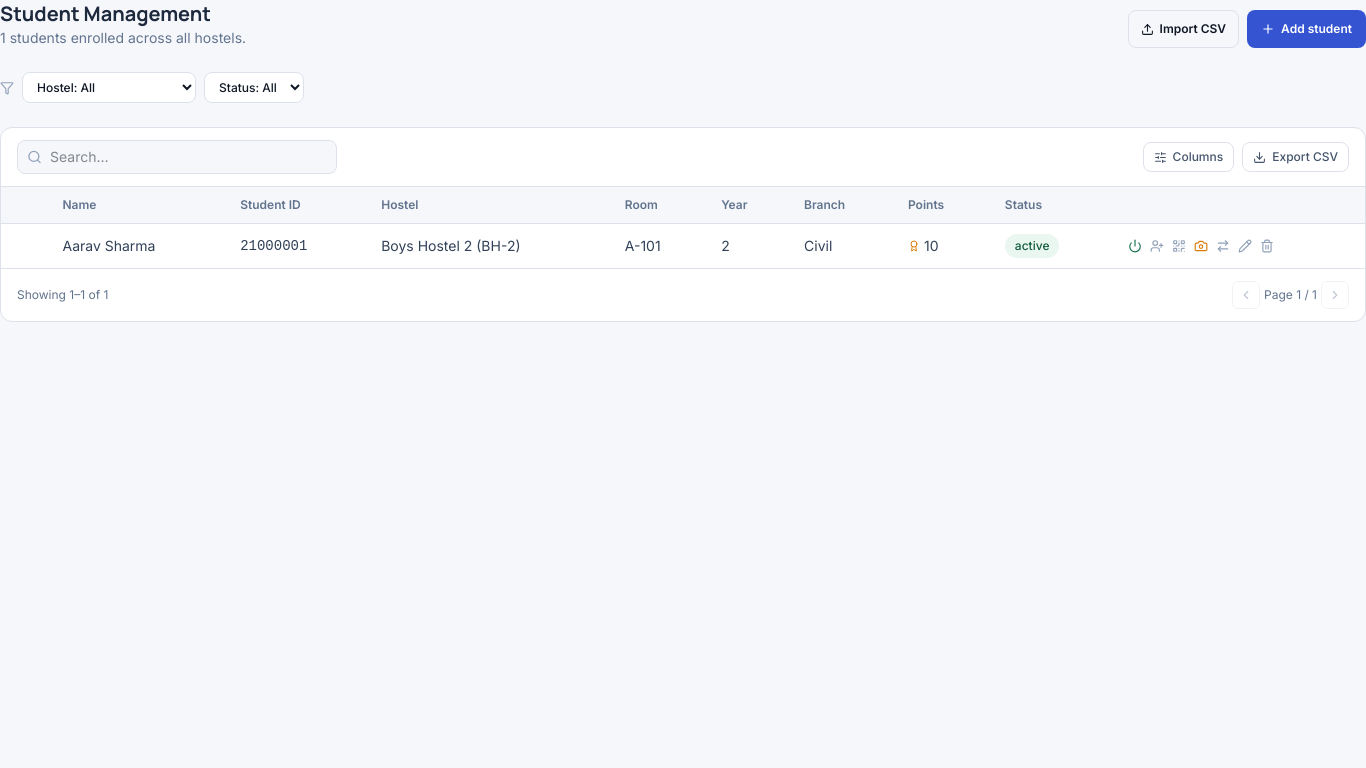
Test case: Students — hostel-capacity errors reach the person › a Super Admin's transfer into a full hostel surfaces the reason on the page
The width and height of the screenshot is (1366, 768).
Expected: the text "Aarav Sharma" is shown, left=46, top=224, right=224, bottom=268
Click the button titled "transfer to another hostel" at coordinates (1223, 246), box left=1216, top=239, right=1230, bottom=253
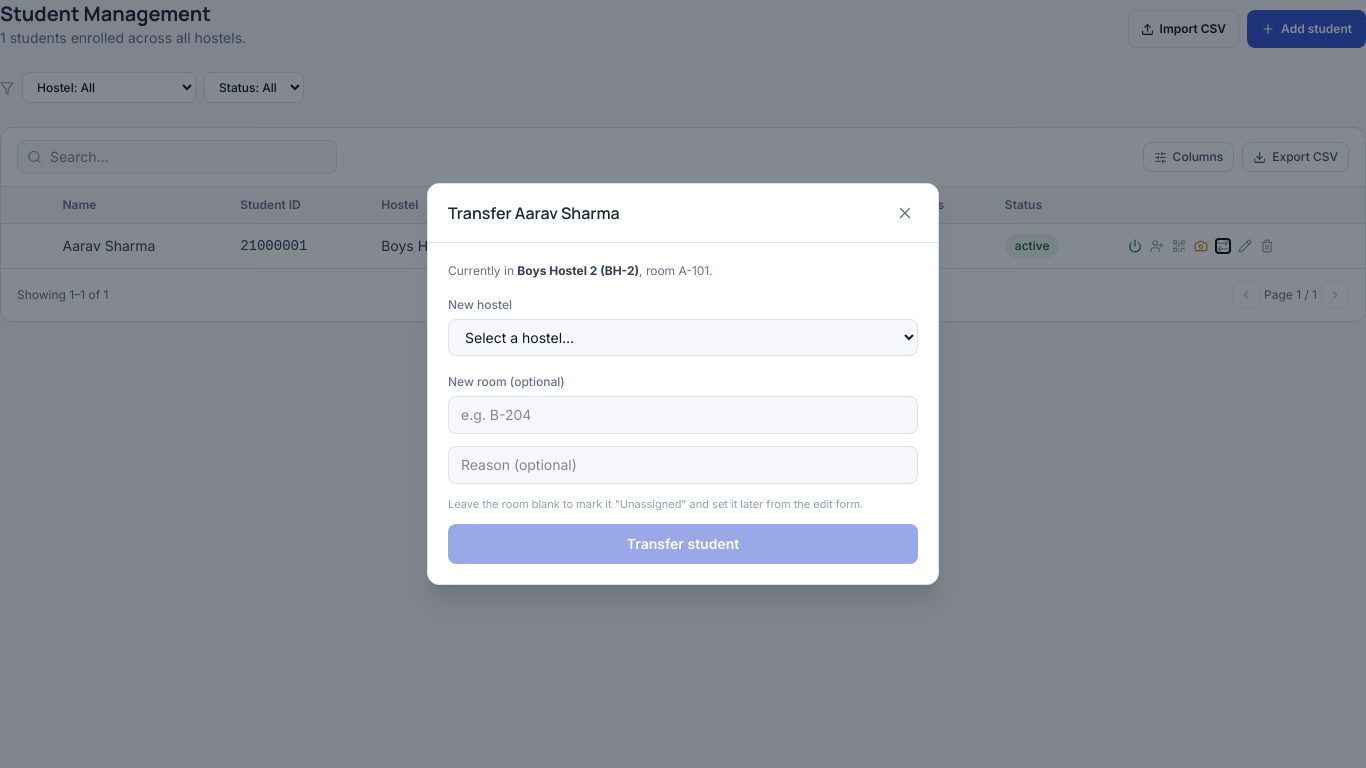
Select "Boys Hostel 1 (BH-1)" in the dropdown at coordinates (683, 337), box left=448, top=319, right=918, bottom=356
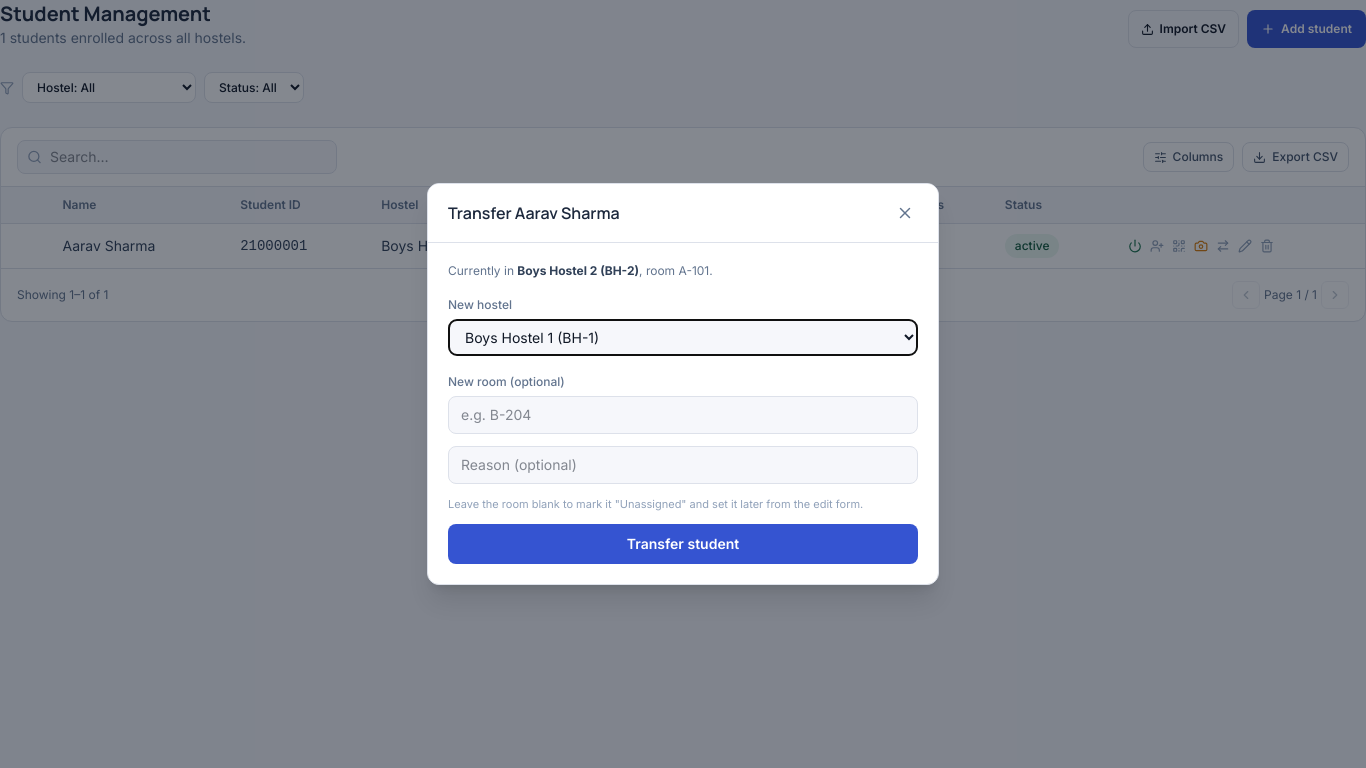
Click the button "Transfer student" at coordinates (683, 544), box left=448, top=524, right=918, bottom=564
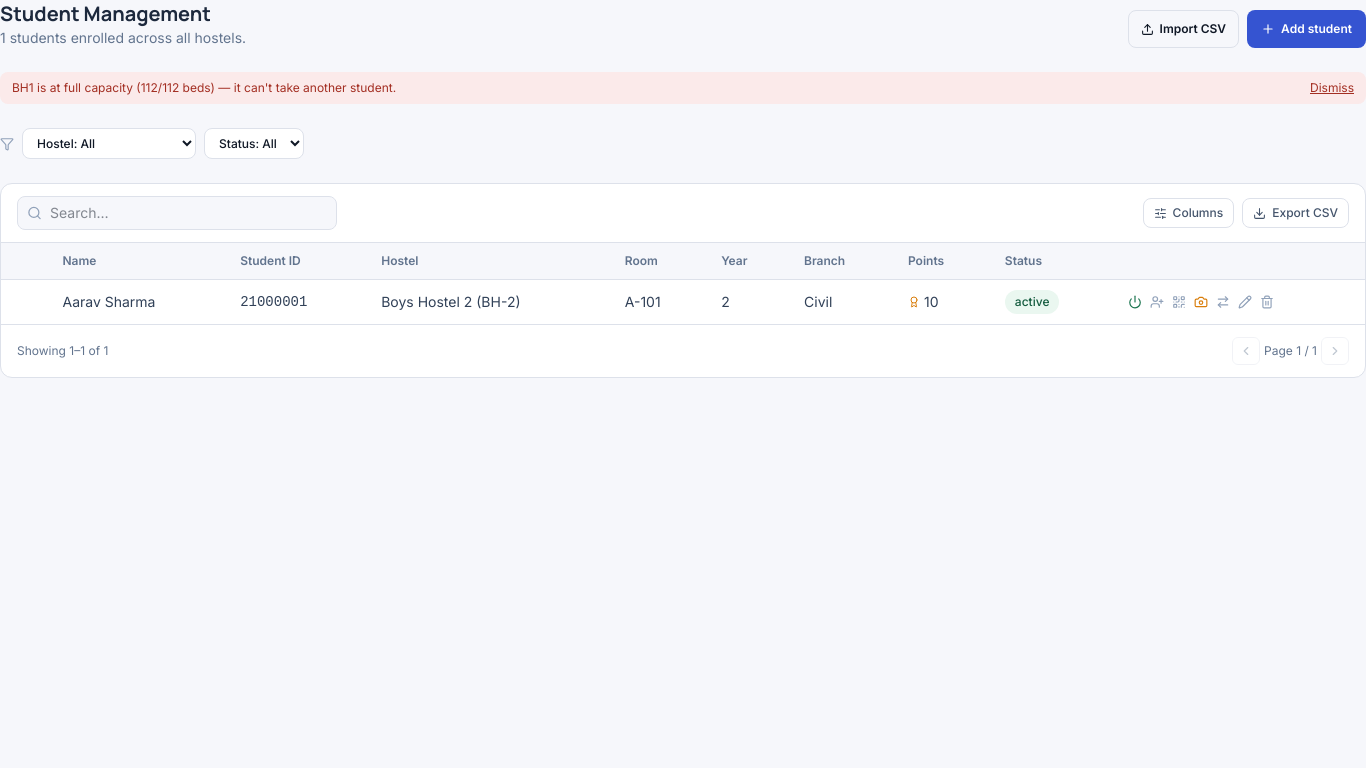
Expected: the message shows "BH1 is at full capacity", left=12, top=80, right=396, bottom=95
